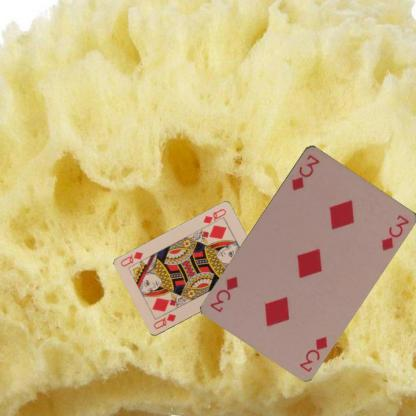3d: (296, 333, 329, 373), (289, 151, 321, 192)
Qd: (201, 206, 227, 230), (151, 312, 177, 330)
